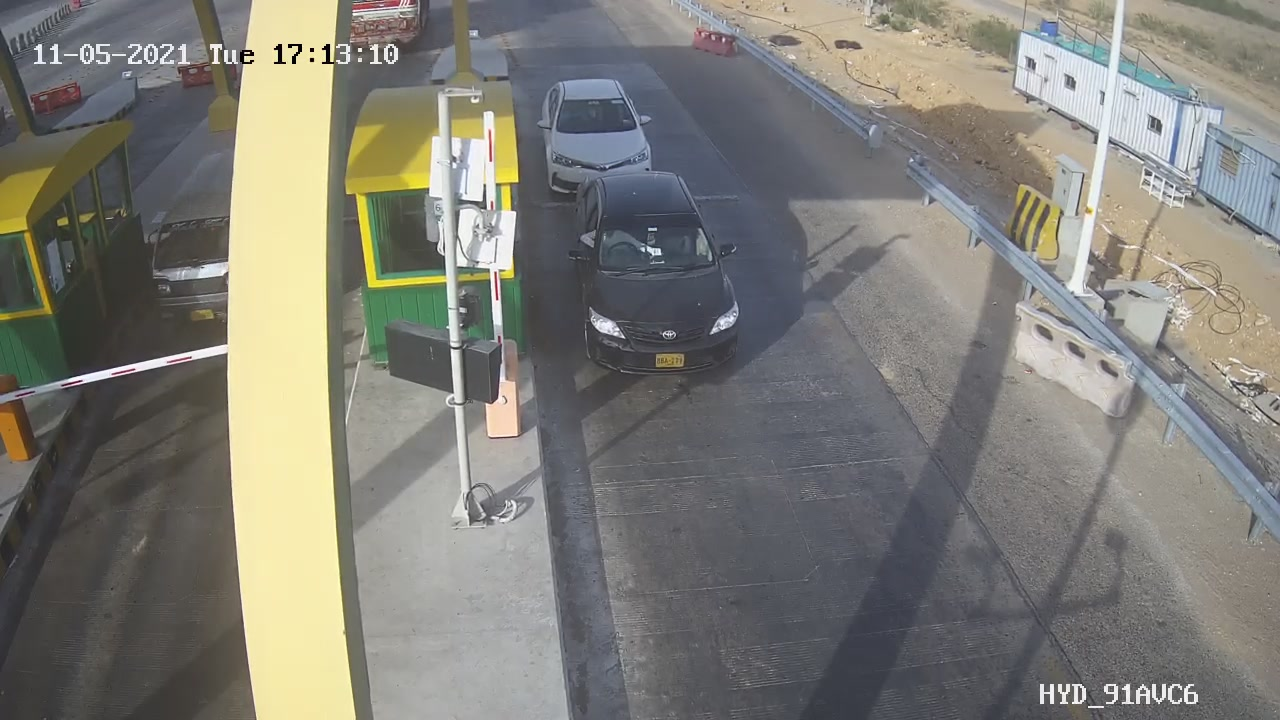F1: (551, 161, 763, 390), (524, 66, 676, 213)
